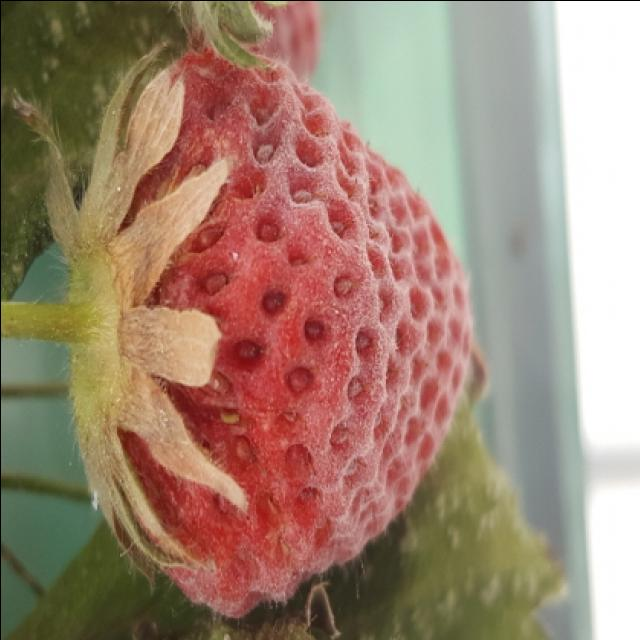Powdery Mildew Fruit: (82, 50, 474, 619)
